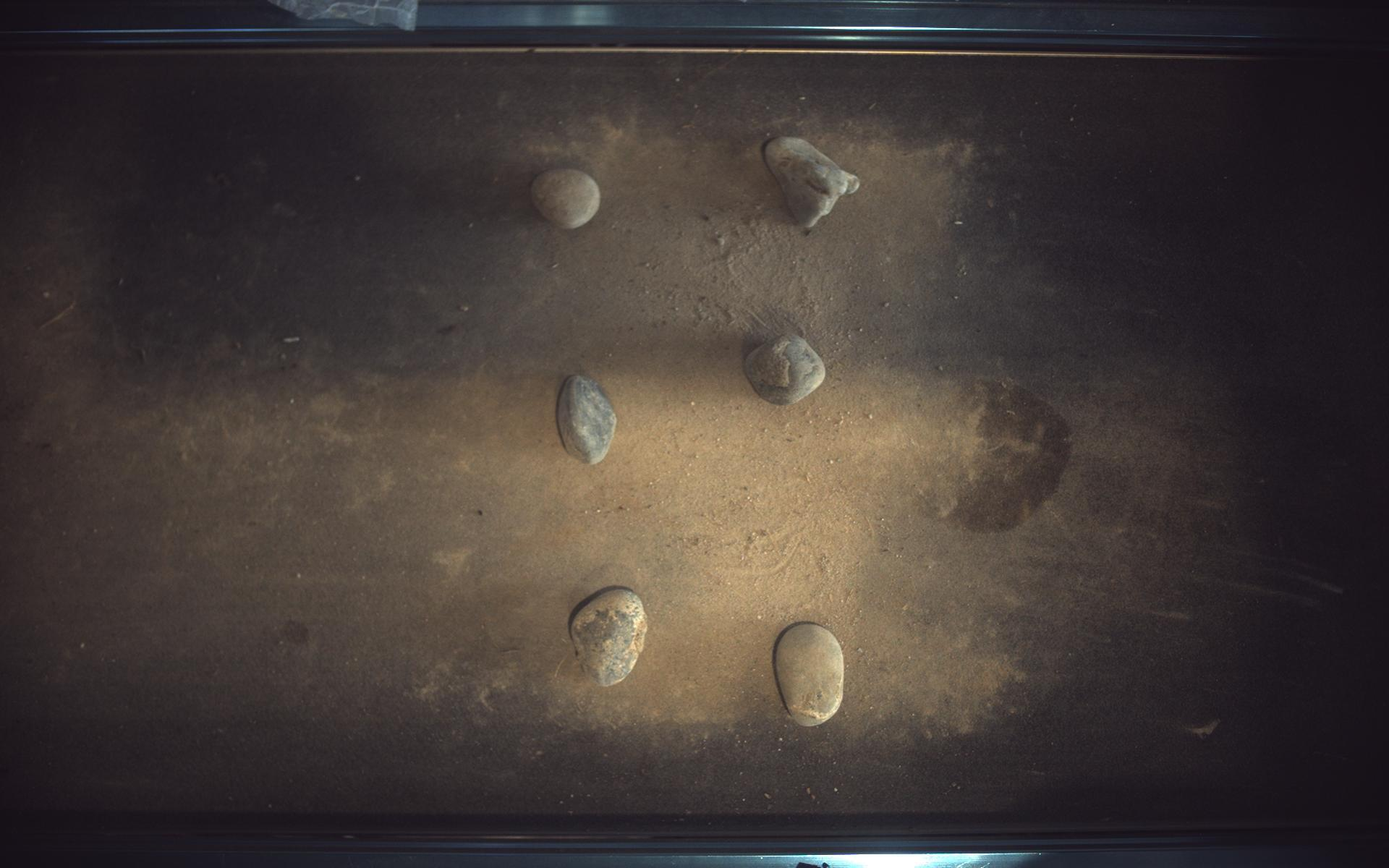stone: (765, 136, 861, 231), (571, 589, 647, 688), (776, 624, 846, 728), (745, 334, 828, 405), (558, 375, 617, 464), (532, 168, 601, 229)
